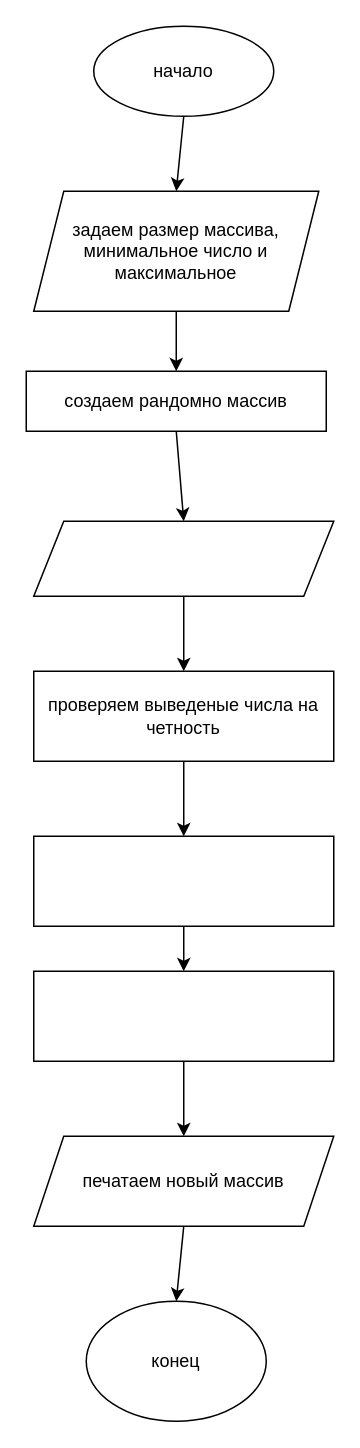
The diagram is 360 pixels wide and 1448 high, and some of its shapes have lost their labels. Each missing label, with the centre of its shape:
"печатаем массив" belongs at point (183, 558).
"подсчитываем количество четных" belongs at point (183, 880).
"создаем новый массив из четных чисел" belongs at point (183, 1015).
